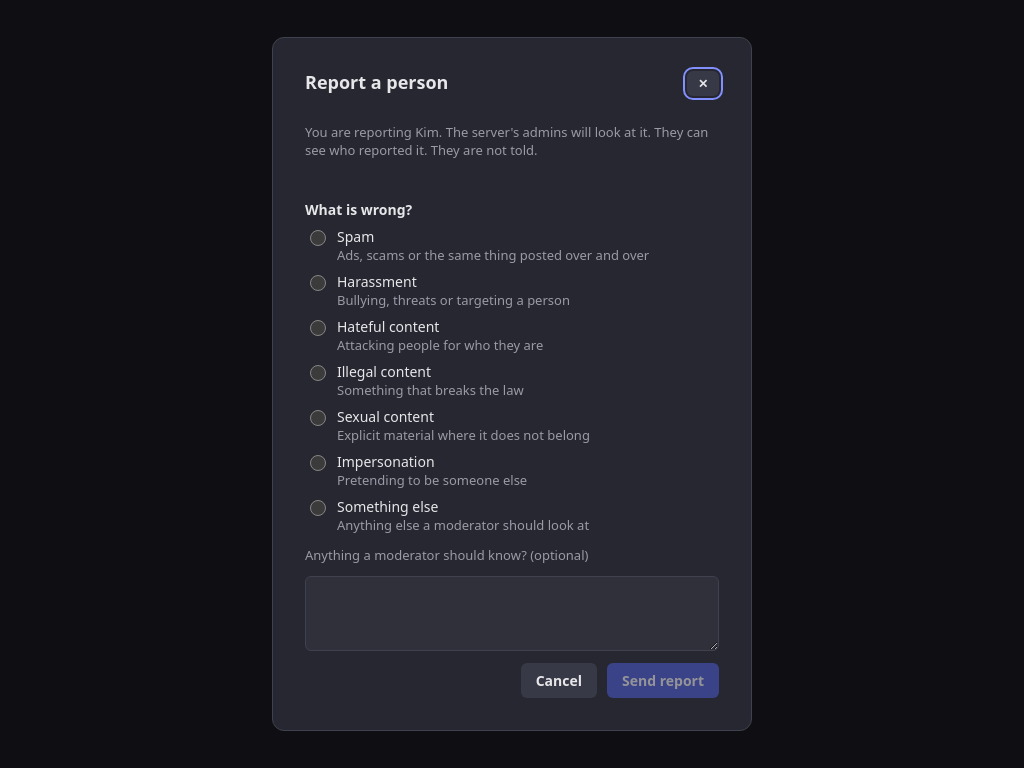
reporting › does not send twice while the first is on its way
This screenshot has width=1024, height=768.
Click the radio button labelled "Spam Ads, scams or the same thing posted over and over" at (318, 238), box [310,230,326,246]
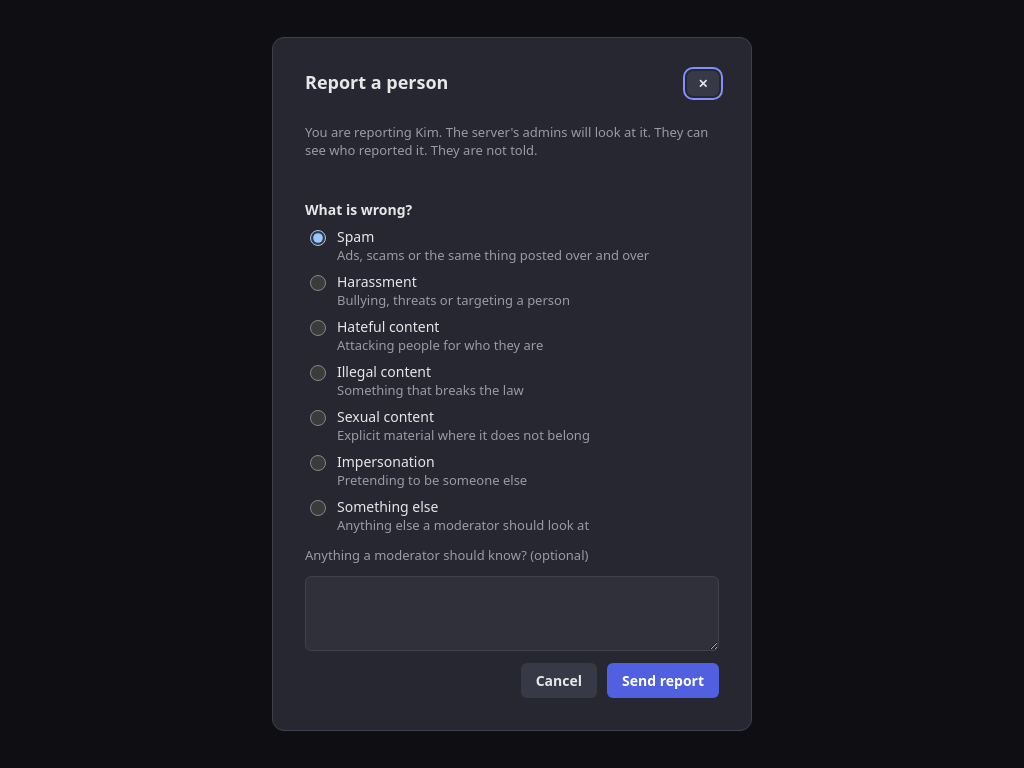
Click the button "Send report" at (663, 681), box [607,663,719,698]
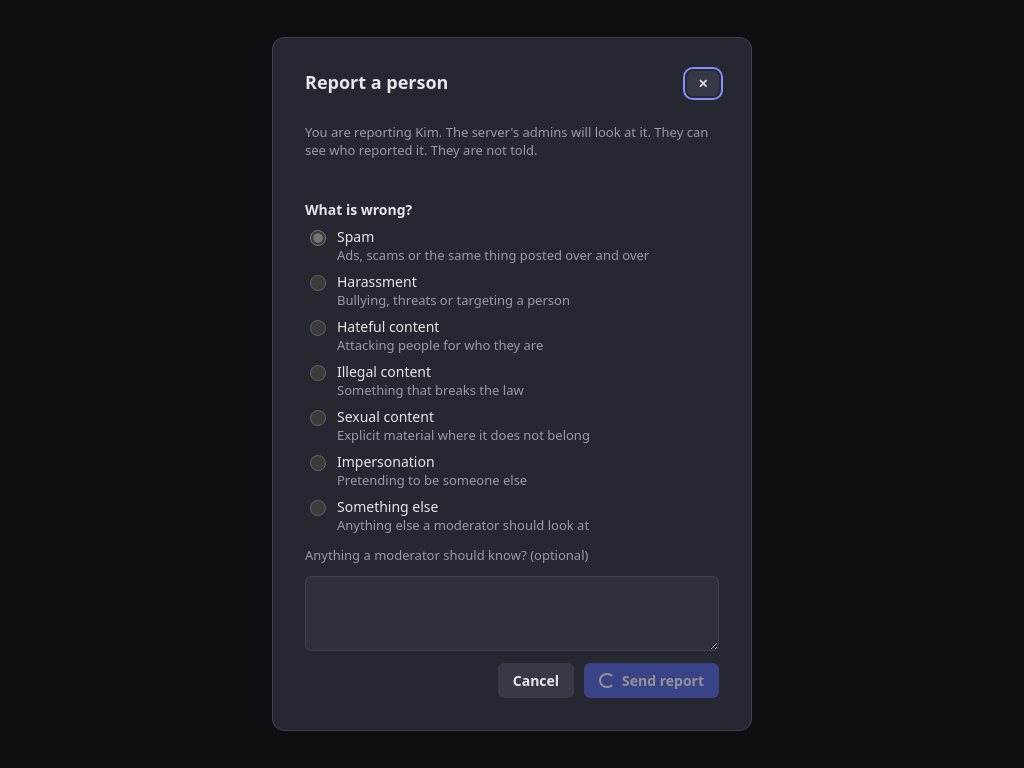
Click the button "Send report" at (652, 681), box [584,663,719,698]
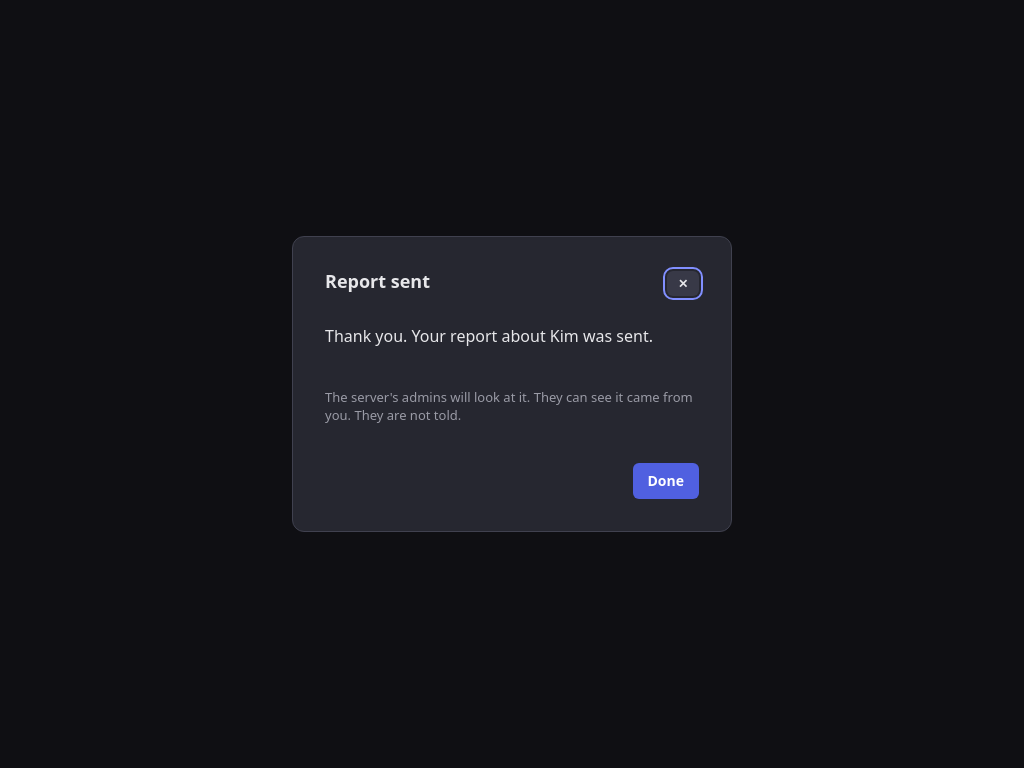
Check: the dialog "Report sent" is shown, box [292,236,732,532]
